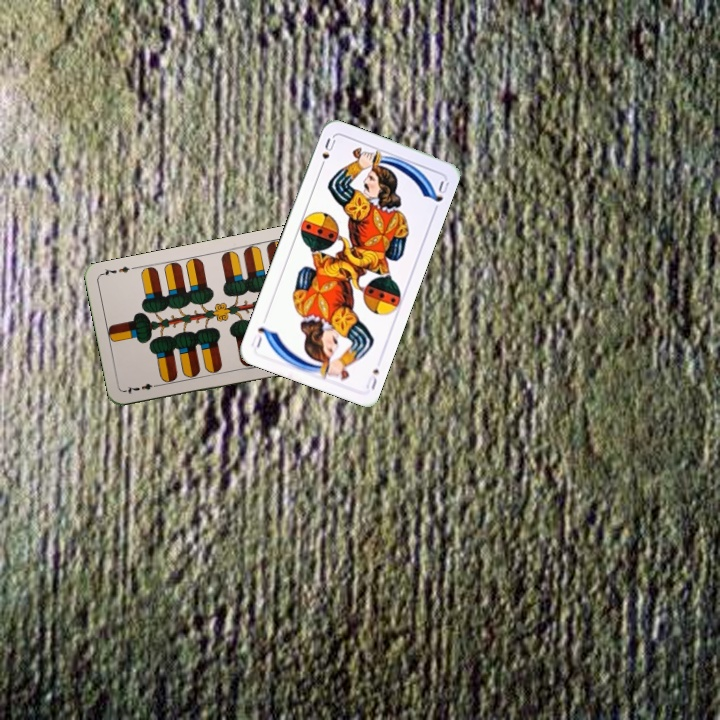E7: (122, 379, 162, 396)
SU: (316, 133, 338, 173), (361, 365, 381, 392)
